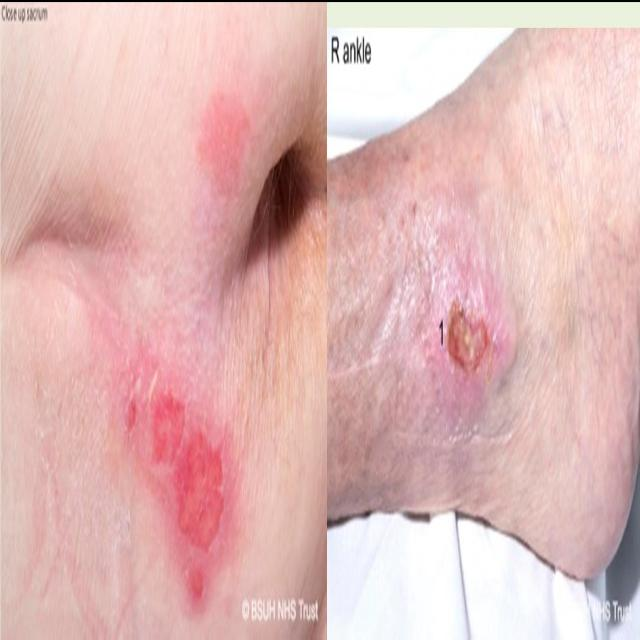stage-1: (196, 84, 252, 194)
stage-2: (176, 430, 224, 545), (154, 393, 183, 467)
stage-3: (449, 316, 488, 378)
